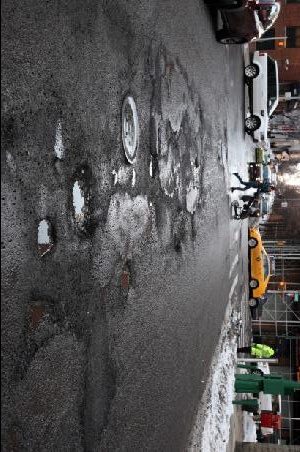pothole: (67, 167, 96, 238), (24, 291, 58, 336), (33, 214, 60, 259), (118, 258, 136, 305), (148, 156, 158, 180)
